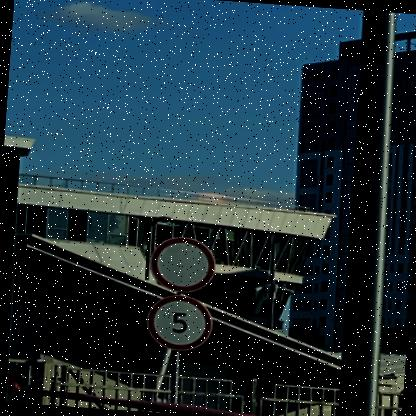speedlimit: (142, 291, 210, 350)
